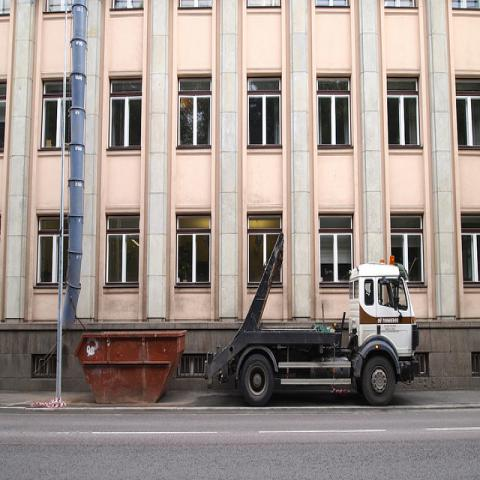truck: (207, 235, 420, 405)
